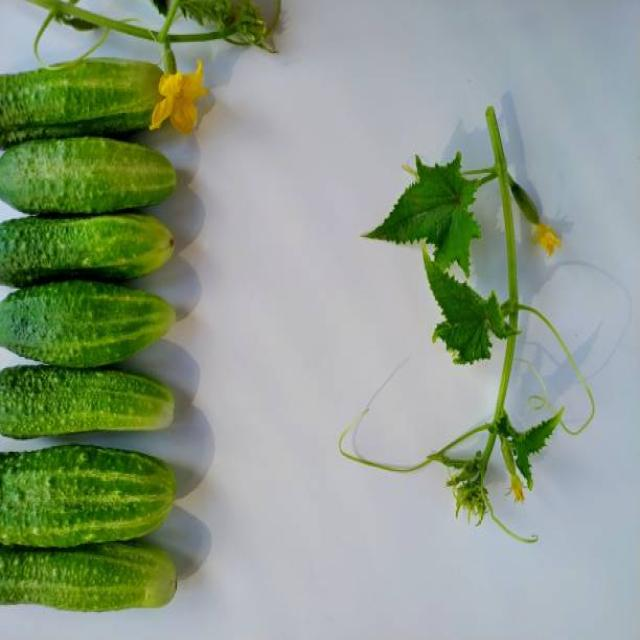cucumber: (0, 444, 176, 548), (0, 280, 177, 372), (0, 56, 167, 141), (0, 136, 178, 212), (0, 362, 176, 435), (0, 212, 175, 285), (0, 544, 177, 614)
